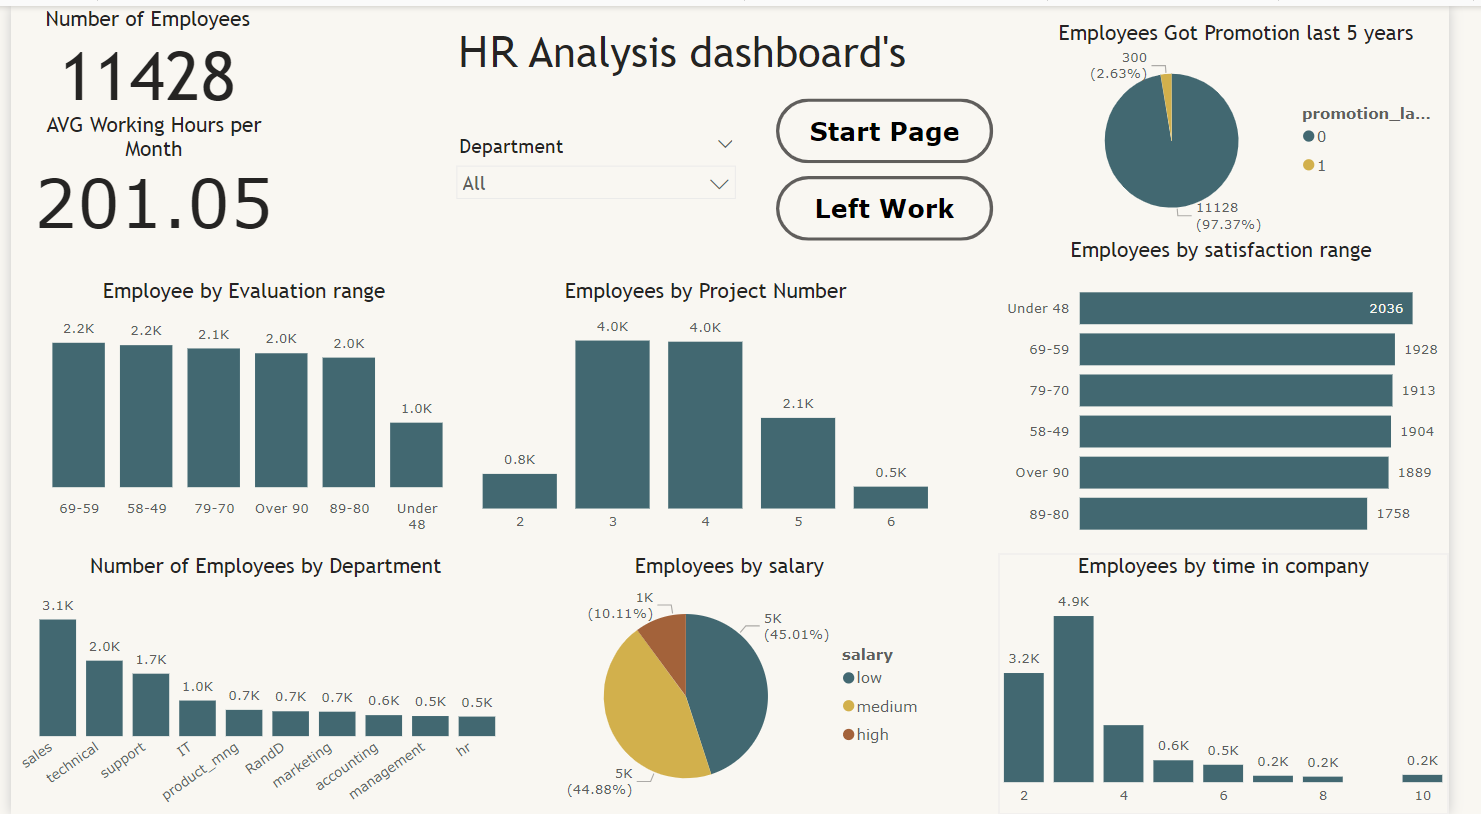

The page's visual inventory and layout, read from the dashboard file:
{"tool":"powerbi","page":{"name":"dashboard","canvas":[1280,720],"ordinal":3},"visuals":[{"type":"textbox","box":[242.5,12.1,720.2,66.4],"z":0},{"type":"card","title":"Number of Employees","fields":{"Values":["employees.Employees stay Count"]},"box":[1.2,0,241.3,94.1],"z":1000},{"type":"columnChart","title":"Number of Employees by Department","fields":{"Category":["employees.Department"],"Y":["employees.Employees stay Count"]},"box":[0,487.4,453.6,232.8],"z":2000},{"type":"pieChart","title":"Employees by salary","fields":{"Category":["employees.salary"],"Y":["employees.Employees stay Count"]},"box":[457.2,487.4,364.3,232.8],"z":3000},{"type":"clusteredColumnChart","title":"Employees by time in company","fields":{"Category":["employees.time_spend_company"],"Y":["employees.Employees stay Count"]},"box":[879.5,487.4,400.5,232.8],"z":4000},{"type":"card","title":"AVG Working Hours per Month","fields":{"Values":["Avg(employees.average_montly_hours)"]},"box":[0,94.1,254.6,112.2],"z":5000},{"type":"columnChart","title":"Employee by Evaluation range","fields":{"Category":["employees.Evaluation range"],"Y":["employees.Employees stay Count"]},"box":[0,242.5,415,234],"z":6000},{"type":"barChart","title":"Employees by satisfaction range","fields":{"Category":["employees.satisfaction range"],"Y":["employees.Employees stay Count"]},"box":[874.7,206.3,405.4,281.1],"z":7000},{"type":"pieChart","title":"Employees Got Promotion last 5 years ","fields":{"Category":["employees.promotion_last_5years"],"Y":["employees.Employees stay Count"]},"box":[913.3,12.1,355.9,194.2],"z":8000},{"type":"slicer","fields":{"Values":["employees.Department"]},"box":[386.1,109.8,269,83.2],"z":9000},{"type":"clusteredColumnChart","title":"Employees by Project Number","fields":{"Y":["employees.Employees stay Count"],"Category":["employees.number_project"]},"box":[415,242.5,406.6,234],"z":10000},{"type":"actionButton","box":[681.1,151.8,193.5,57.8],"z":11000},{"type":"actionButton","box":[681.1,81.9,193.5,57.8],"z":11001}]}

Visuals, with their boxes in screenshot pixels (x1, y1, x2, y2), scaled from the page's 1280x720 canvas onto the 1481x814 screenshot:
textbox: Rect(281, 14, 1114, 89)
"Number of Employees" card: Rect(1, 0, 281, 106)
"Number of Employees by Department" columnChart: Rect(0, 551, 525, 813)
"Employees by salary" pieChart: Rect(529, 551, 951, 813)
"Employees by time in company" clusteredColumnChart: Rect(1018, 551, 1480, 813)
"AVG Working Hours per Month" card: Rect(0, 106, 295, 233)
"Employee by Evaluation range" columnChart: Rect(0, 274, 480, 539)
"Employees by satisfaction range" barChart: Rect(1012, 233, 1480, 551)
"Employees Got Promotion last 5 years " pieChart: Rect(1057, 14, 1469, 233)
slicer - employees.Department: Rect(447, 124, 758, 218)
"Employees by Project Number" clusteredColumnChart: Rect(480, 274, 951, 539)
actionButton: Rect(788, 172, 1012, 237)
actionButton: Rect(788, 93, 1012, 158)
